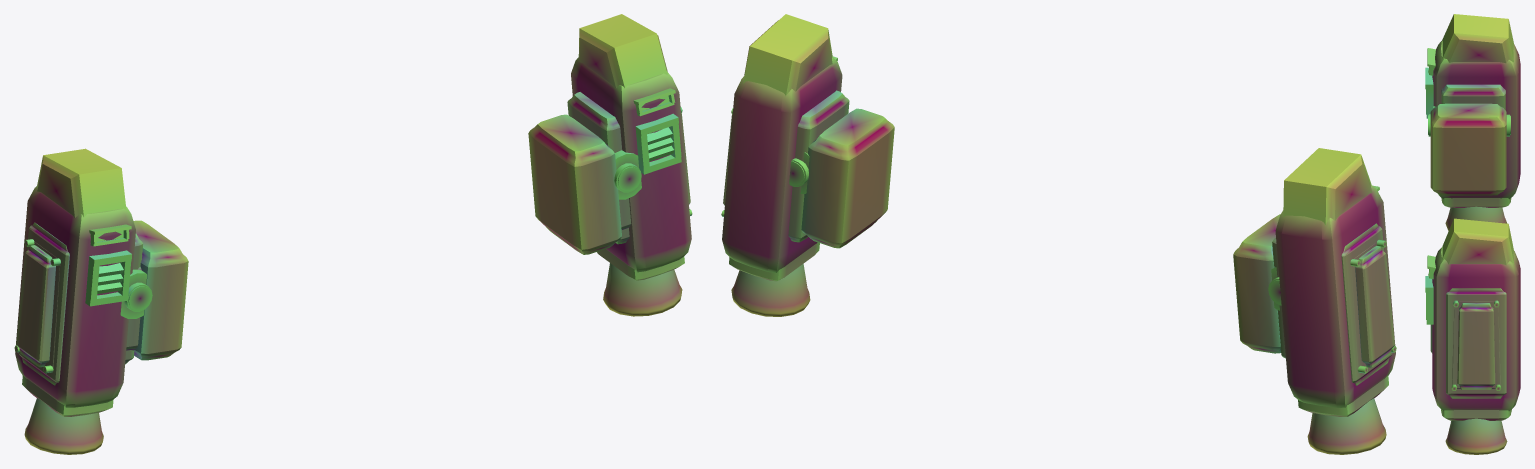
The model's file is llm_gen_leg_thrusters_031_e061fc.glb.
3 views of the same model, side by side, from view 1: azimuth 30°, elevation 25°; view 2: azimuth 150°, elevation 25°; view 3: azimuth 270°, elevation 25° (orthographic). The views are drawn at different scales.
Parts seen in each view (by area): view 1: calf_thruster_hull_1_cobalt_anodized_l, adapter_calf_clamp_r, calf_thruster_hull_1_cobalt_anodized_r, adapter_calf_clamp_l, nacelle_upper_cowl_2_cobalt_anodized_r, nacelle_upper_cowl_2_cobalt_anodized_l, nacelle_flank_armor_6_cobalt_anodized_l, calf_main_bell_8_vernier_bell_vernier_l, calf_main_bell_8_vernier_bell_vernier_r, adapter_sub_flank_frame_dark_5_adapter_dark_l, adapter_sub_tank_cradle_dark_0_adapter_dark_r, adapter_sub_nacelle_intake_louver_3_dark_r (+5 smaller); view 2: calf_thruster_hull_1_cobalt_anodized_l, calf_thruster_hull_1_cobalt_anodized_r, adapter_calf_clamp_r, nacelle_upper_cowl_2_cobalt_anodized_r, nacelle_upper_cowl_2_cobalt_anodized_l, adapter_calf_clamp_l, nacelle_flank_armor_6_cobalt_anodized_l, calf_main_bell_8_vernier_bell_vernier_l, calf_main_bell_8_vernier_bell_vernier_r, adapter_sub_tank_cradle_dark_0_adapter_dark_r, adapter_sub_flank_frame_dark_5_adapter_dark_l, adapter_sub_nozzle_shroud_dark_7_adapter_dark_l (+1 smaller); view 3: adapter_calf_clamp_l, calf_thruster_hull_1_cobalt_anodized_r, calf_thruster_hull_1_cobalt_anodized_l, nacelle_flank_armor_6_cobalt_anodized_r, nacelle_upper_cowl_2_cobalt_anodized_l, nacelle_upper_cowl_2_cobalt_anodized_r, adapter_sub_flank_frame_dark_5_adapter_dark_r, calf_main_bell_8_vernier_bell_vernier_r, adapter_sub_tank_cradle_dark_0_adapter_dark_l, calf_main_bell_8_vernier_bell_vernier_l, adapter_sub_nozzle_shroud_dark_7_adapter_dark_r, adapter_sub_nozzle_shroud_dark_7_adapter_dark_l (+5 smaller).
Part boxes in pixels (x1,y1,x2,y2): calf_thruster_hull_1_cobalt_anodized_l: (15, 185, 135, 407); adapter_calf_clamp_r: (528, 114, 641, 254); calf_thruster_hull_1_cobalt_anodized_r: (571, 57, 691, 272); adapter_calf_clamp_l: (120, 220, 188, 360); nacelle_upper_cowl_2_cobalt_anodized_r: (578, 14, 667, 88); nacelle_upper_cowl_2_cobalt_anodized_l: (37, 148, 126, 217); nacelle_flank_armor_6_cobalt_anodized_l: (14, 239, 60, 373); calf_main_bell_8_vernier_bell_vernier_l: (24, 398, 103, 454); calf_main_bell_8_vernier_bell_vernier_r: (603, 263, 682, 316); adapter_sub_flank_frame_dark_5_adapter_dark_l: (18, 222, 69, 385); adapter_sub_tank_cradle_dark_0_adapter_dark_r: (567, 92, 629, 244); adapter_sub_nacelle_intake_louver_3_dark_r: (635, 113, 681, 174); calf_thruster_hull_1_cobalt_anodized_l: (1275, 184, 1395, 407); calf_thruster_hull_1_cobalt_anodized_r: (722, 57, 842, 272); adapter_calf_clamp_r: (800, 108, 894, 248); nacelle_upper_cowl_2_cobalt_anodized_r: (743, 14, 832, 95); nacelle_upper_cowl_2_cobalt_anodized_l: (1283, 148, 1372, 225); adapter_calf_clamp_l: (1233, 214, 1280, 353); nacelle_flank_armor_6_cobalt_anodized_l: (1350, 239, 1396, 373); calf_main_bell_8_vernier_bell_vernier_l: (1307, 398, 1386, 454); calf_main_bell_8_vernier_bell_vernier_r: (731, 264, 810, 316); adapter_sub_tank_cradle_dark_0_adapter_dark_r: (788, 90, 849, 242); adapter_sub_flank_frame_dark_5_adapter_dark_l: (1341, 223, 1392, 385); adapter_sub_nozzle_shroud_dark_7_adapter_dark_l: (1298, 376, 1388, 416); adapter_calf_clamp_l: (1430, 103, 1506, 195); calf_thruster_hull_1_cobalt_anodized_r: (1432, 247, 1520, 411); calf_thruster_hull_1_cobalt_anodized_l: (1432, 41, 1520, 199); nacelle_flank_armor_6_cobalt_anodized_r: (1451, 300, 1501, 390); nacelle_upper_cowl_2_cobalt_anodized_l: (1442, 14, 1513, 63); nacelle_upper_cowl_2_cobalt_anodized_r: (1442, 218, 1514, 265); adapter_sub_flank_frame_dark_5_adapter_dark_r: (1446, 288, 1506, 398); calf_main_bell_8_vernier_bell_vernier_r: (1445, 418, 1507, 454); adapter_sub_tank_cradle_dark_0_adapter_dark_l: (1441, 84, 1505, 110); calf_main_bell_8_vernier_bell_vernier_l: (1445, 206, 1507, 230); adapter_sub_nozzle_shroud_dark_7_adapter_dark_r: (1441, 409, 1511, 420); adapter_sub_nozzle_shroud_dark_7_adapter_dark_l: (1441, 198, 1511, 207).
Bounding box in the file's own units: 84.25 × 34.45 × 13.78.
